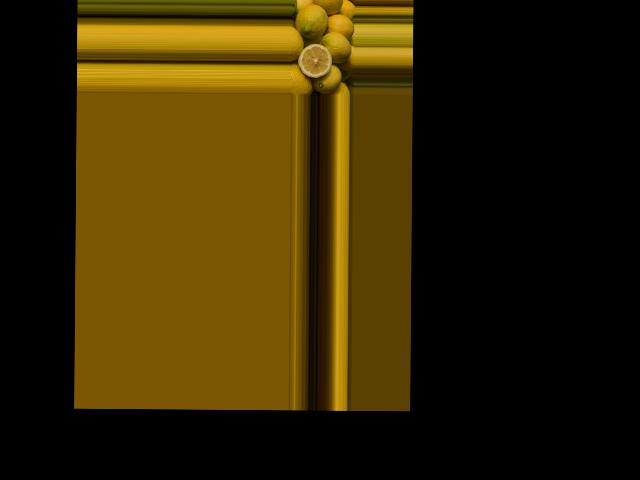lemon: (314, 67, 341, 92)
